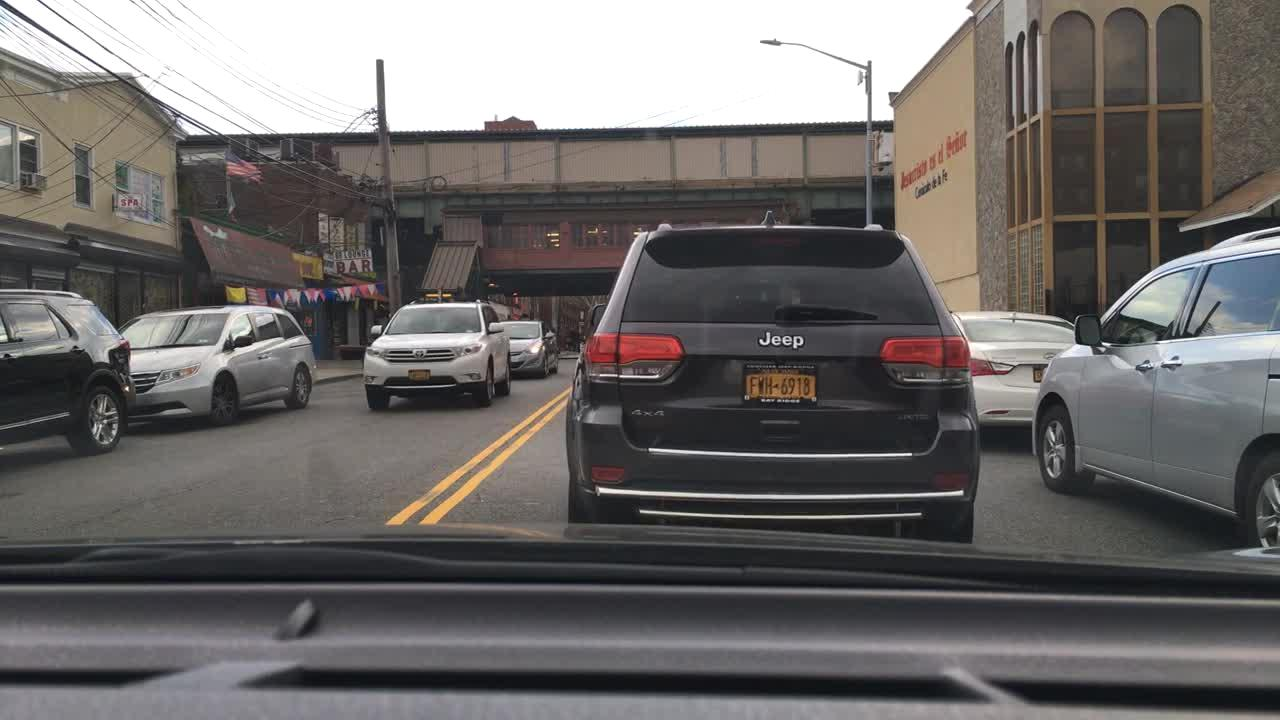jeep: (735, 313, 824, 353)
